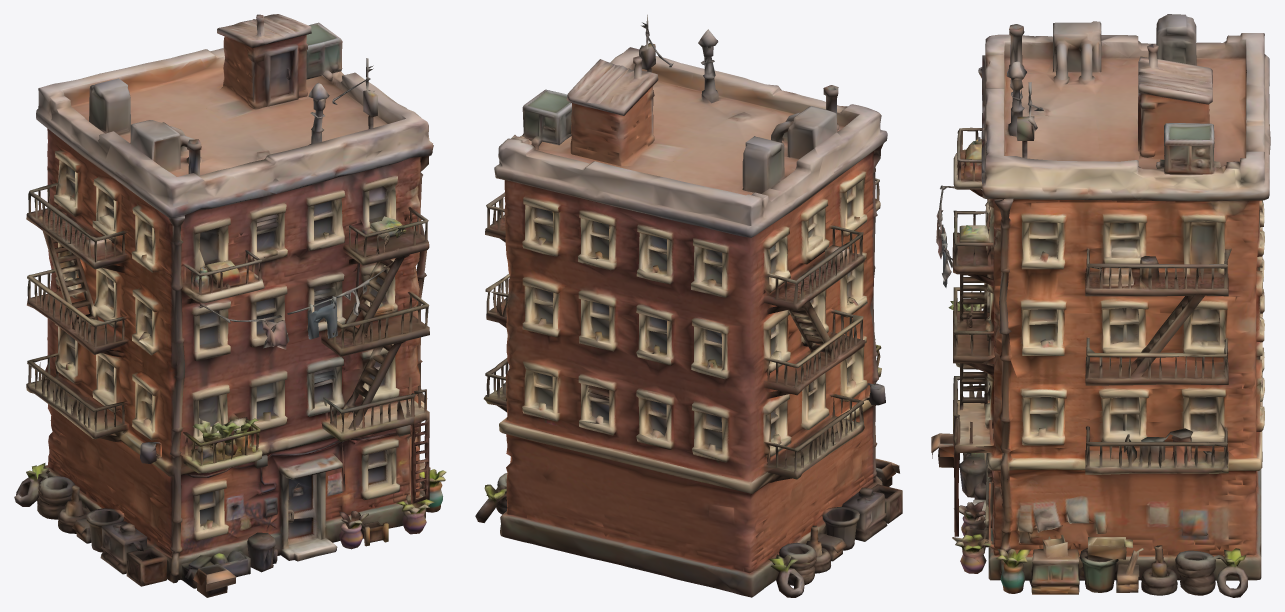
Rendered from apartment_brick.glb.
3 views of the same model, side by side, from view 1: azimuth 30°, elevation 25°; view 2: azimuth 150°, elevation 25°; view 3: azimuth 270°, elevation 25° (orthographic). The views are drawn at different scales.
Visible parts, largest first — view 1: tripo_part_0, tripo_part_3, tripo_part_2, tripo_part_8, tripo_part_16, tripo_part_1, tripo_part_23, tripo_part_4, tripo_part_22, tripo_part_18, tripo_part_20, tripo_part_33 (+10 smaller); view 2: tripo_part_0, tripo_part_3, tripo_part_8, tripo_part_23, tripo_part_4, tripo_part_16, tripo_part_1, tripo_part_5, tripo_part_22, tripo_part_13, tripo_part_24, tripo_part_6 (+4 smaller); view 3: tripo_part_0, tripo_part_3, tripo_part_5, tripo_part_2, tripo_part_7, tripo_part_23, tripo_part_8, tripo_part_4, tripo_part_6, tripo_part_12, tripo_part_9, tripo_part_16 (+10 smaller).
Boxes of the visible parts, box(x1,y1,x2,y2) form: tripo_part_0: box(26, 128, 433, 583); tripo_part_3: box(36, 48, 432, 218); tripo_part_2: box(321, 207, 429, 503); tripo_part_8: box(206, 35, 309, 119); tripo_part_16: box(89, 78, 130, 136); tripo_part_1: box(14, 463, 74, 519); tripo_part_23: box(217, 14, 311, 47); tripo_part_4: box(306, 22, 342, 79); tripo_part_22: box(100, 521, 147, 574); tripo_part_18: box(126, 547, 166, 586); tripo_part_20: box(287, 260, 395, 339); tripo_part_33: box(193, 564, 236, 597); tripo_part_0: box(499, 143, 883, 597); tripo_part_3: box(494, 47, 887, 237); tripo_part_8: box(570, 86, 685, 166); tripo_part_23: box(566, 56, 658, 115); tripo_part_4: box(522, 89, 571, 150); tripo_part_16: box(742, 136, 785, 193); tripo_part_1: box(768, 542, 816, 597); tripo_part_5: box(485, 192, 509, 327); tripo_part_22: box(842, 487, 887, 541); tripo_part_13: box(820, 506, 859, 550); tripo_part_24: box(698, 29, 718, 103); tripo_part_6: box(475, 473, 507, 522); tripo_part_0: box(948, 67, 1264, 580); tripo_part_3: box(978, 21, 1270, 201); tripo_part_5: box(1085, 248, 1231, 385); tripo_part_2: box(952, 210, 994, 536); tripo_part_7: box(1085, 426, 1228, 474); tripo_part_23: box(1138, 44, 1212, 104); tripo_part_8: box(1135, 88, 1209, 159); tripo_part_4: box(1156, 123, 1220, 174); tripo_part_6: box(1175, 548, 1248, 597); tripo_part_12: box(1029, 535, 1084, 594); tripo_part_9: box(1079, 537, 1132, 592); tripo_part_16: box(1156, 14, 1196, 65).
Size of the model in its own units: 0.7235 by 0.9799 by 0.6139.
1 material, 1 textured.
